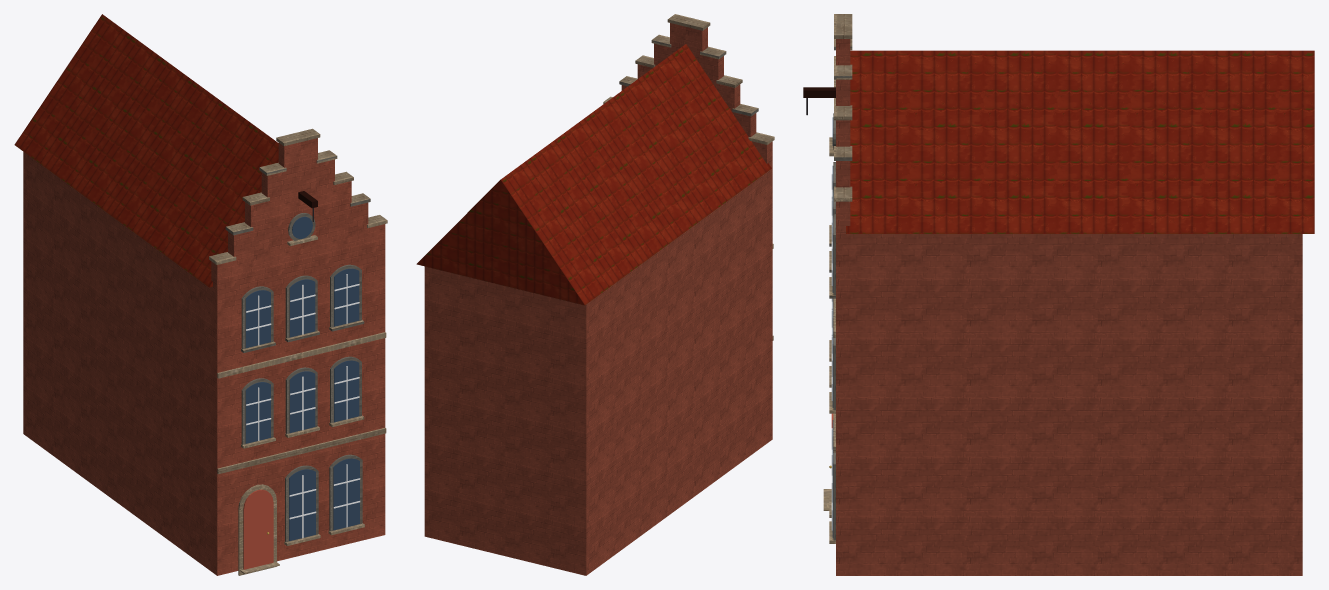
Rendered from holandesa_w6_0.gltf.
3 views of the same model, side by side, from view 1: azimuth 30°, elevation 25°; view 2: azimuth 150°, elevation 25°; view 3: azimuth 270°, elevation 25° (orthographic). The views are drawn at different scales.
Visible parts, largest first — view 1: holandesa_w6_0; view 2: holandesa_w6_0; view 3: holandesa_w6_0.
Part boxes in pixels (x1,y1,x2,y2): holandesa_w6_0: [14, 14, 387, 575]; holandesa_w6_0: [416, 14, 774, 575]; holandesa_w6_0: [803, 14, 1314, 575].
Size of what is drawn, in the model's own units: 5.96 by 13.67 by 12.5.
7 materials, 4 textured.
